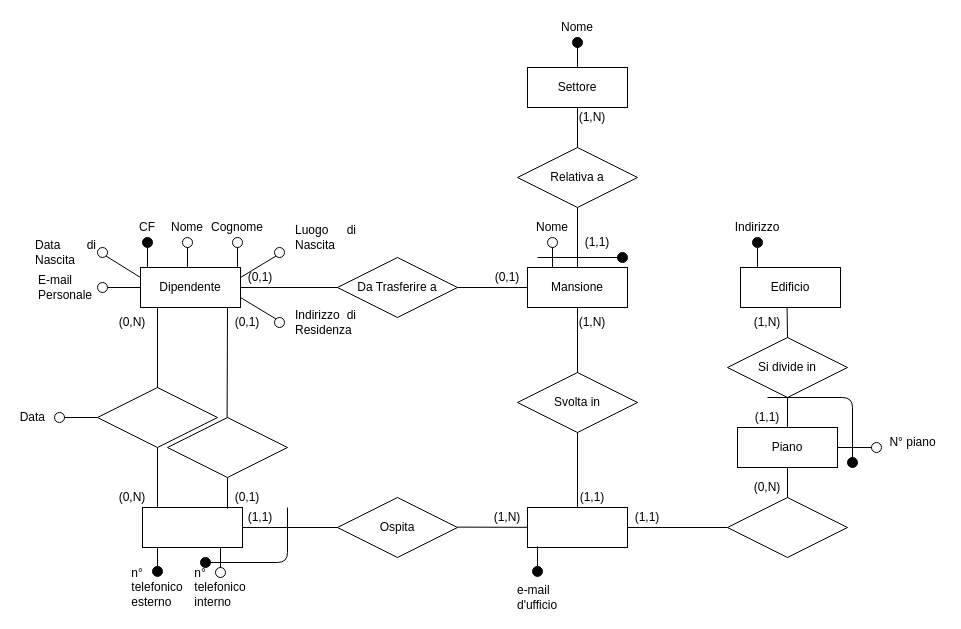
The diagram is 961 pixels wide and 629 high, and some of its shapes have lost their labels. The shapes that lost their labels are listed below. From the top down, each one's box as (x1, y1, x2, y2) in pixels, then its label:
(96, 386, 218, 448): Trasferito a
(166, 416, 288, 478): Occupa
(142, 506, 242, 548): Postazione
(526, 506, 628, 548): Ufficio
(726, 496, 848, 558): Compone
